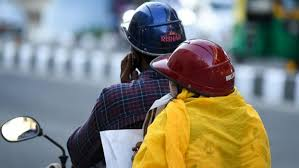with_helmet: (164, 43, 237, 93), (127, 1, 185, 49)
